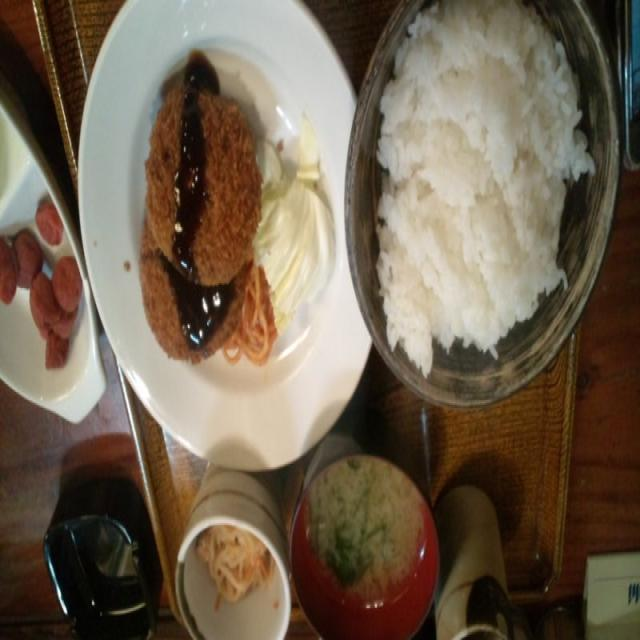Rice: (360, 0, 597, 375)
